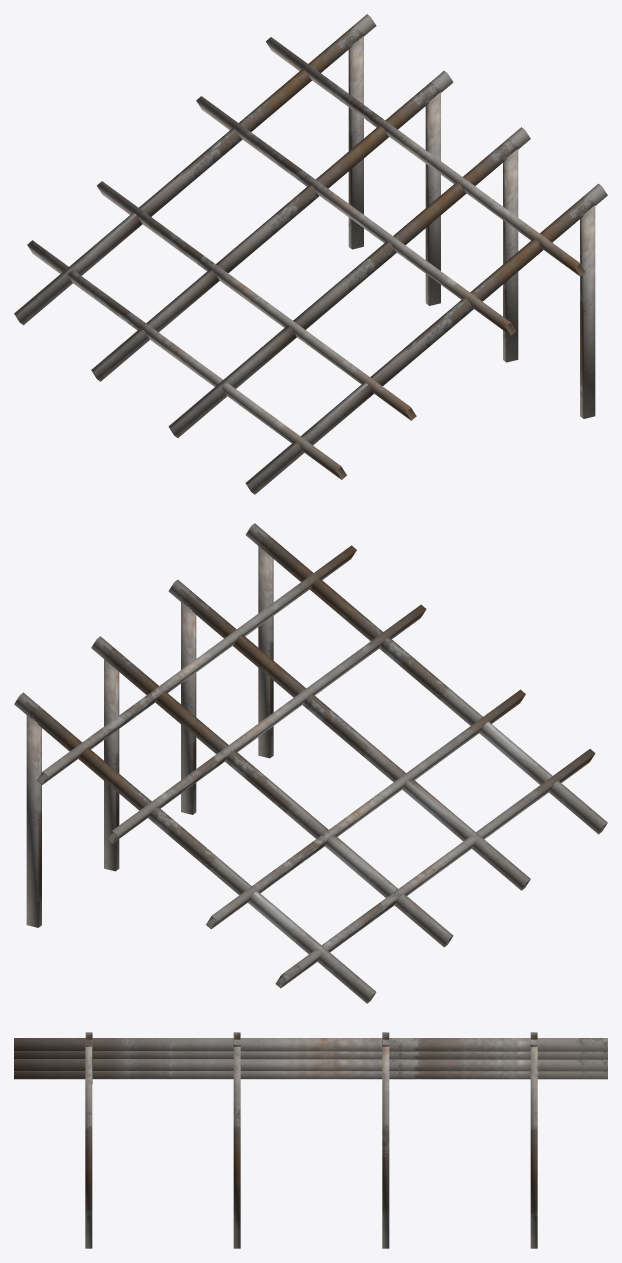
The model's file is SolarPanel_Legs.fbx.
The picture shows the model from 3 angles, top to bottom: view 1: azimuth 30°, elevation 25°; view 2: azimuth 150°, elevation 25°; view 3: azimuth 270°, elevation 25°; orthographic projection. The views are drawn at different scales.
Visible parts, largest first — view 1: Plane_009; view 2: Plane_009; view 3: Plane_009.
Part boxes in pixels (x1,y1,x2,y2): Plane_009: [14, 14, 607, 494]; Plane_009: [14, 523, 607, 1003]; Plane_009: [14, 1032, 607, 1248].
Bounding box in the file's own units: 16.91 × 10.28 × 25.21.
Materials: 1 (1 with a texture image).
